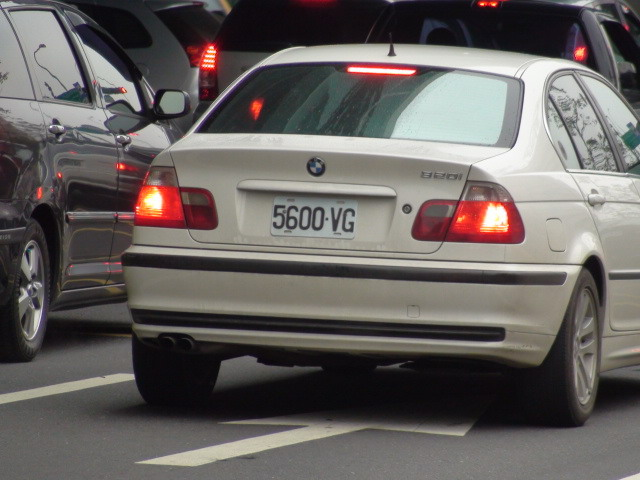plate: (268, 193, 359, 242)
